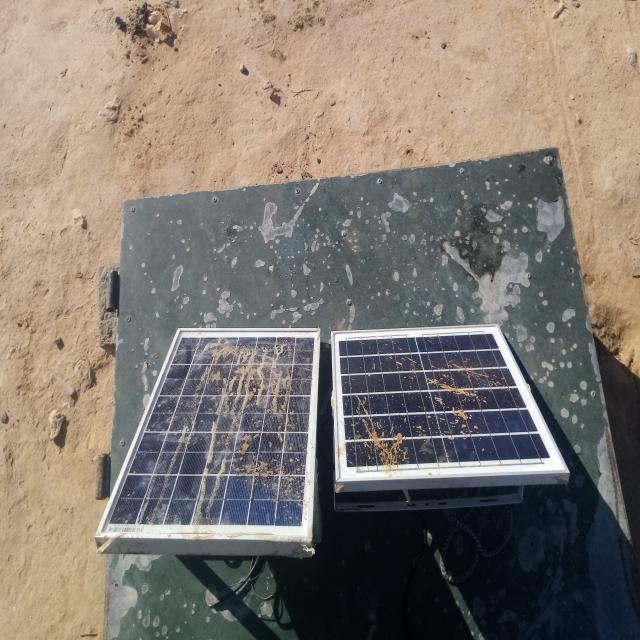faulty: (95, 327, 318, 541), (332, 324, 568, 482)
